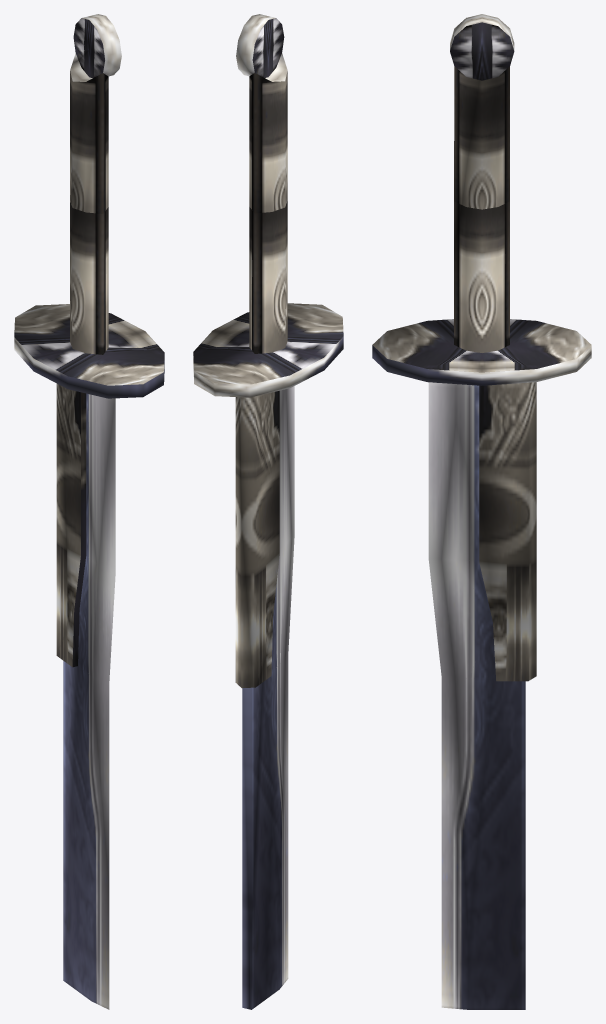
Rendered from dualswordsa8l.obj.
The picture shows the model from 3 angles, left to right: view 1: azimuth 30°, elevation 25°; view 2: azimuth 150°, elevation 25°; view 3: azimuth 270°, elevation 25°; orthographic projection. The views are drawn at different scales.
Visible parts, largest first — view 1: MDL_w2dswa8l_bod00; view 2: MDL_w2dswa8l_bod00; view 3: MDL_w2dswa8l_bod00.
Boxes of the visible parts, left/top/right/bottom form: MDL_w2dswa8l_bod00: left=14, top=14, right=164, bottom=1009; MDL_w2dswa8l_bod00: left=193, top=14, right=343, bottom=1009; MDL_w2dswa8l_bod00: left=372, top=14, right=591, bottom=1009.
Size of the model in its own units: 0.0917 by 0.7648 by 0.153.
